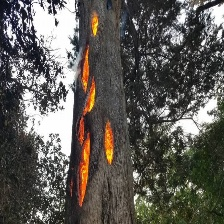fire: (75, 139, 94, 207), (102, 118, 117, 166), (79, 45, 90, 92), (84, 84, 99, 115), (76, 115, 87, 149), (89, 14, 101, 40)
